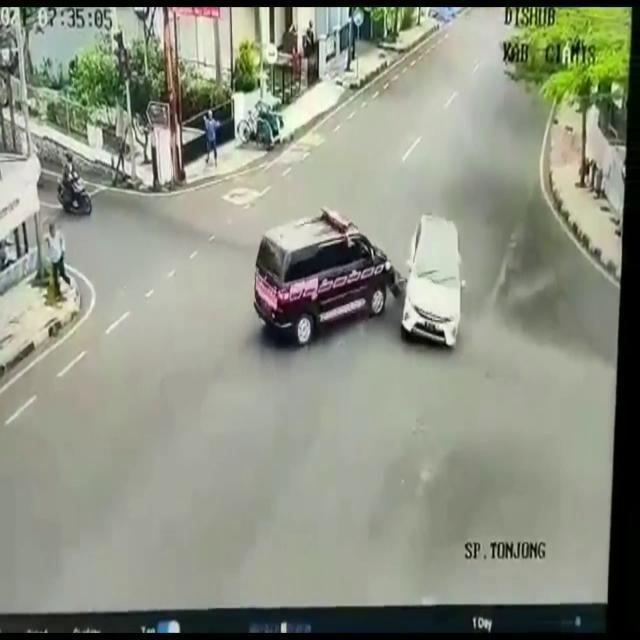accident: (254, 207, 464, 355)
